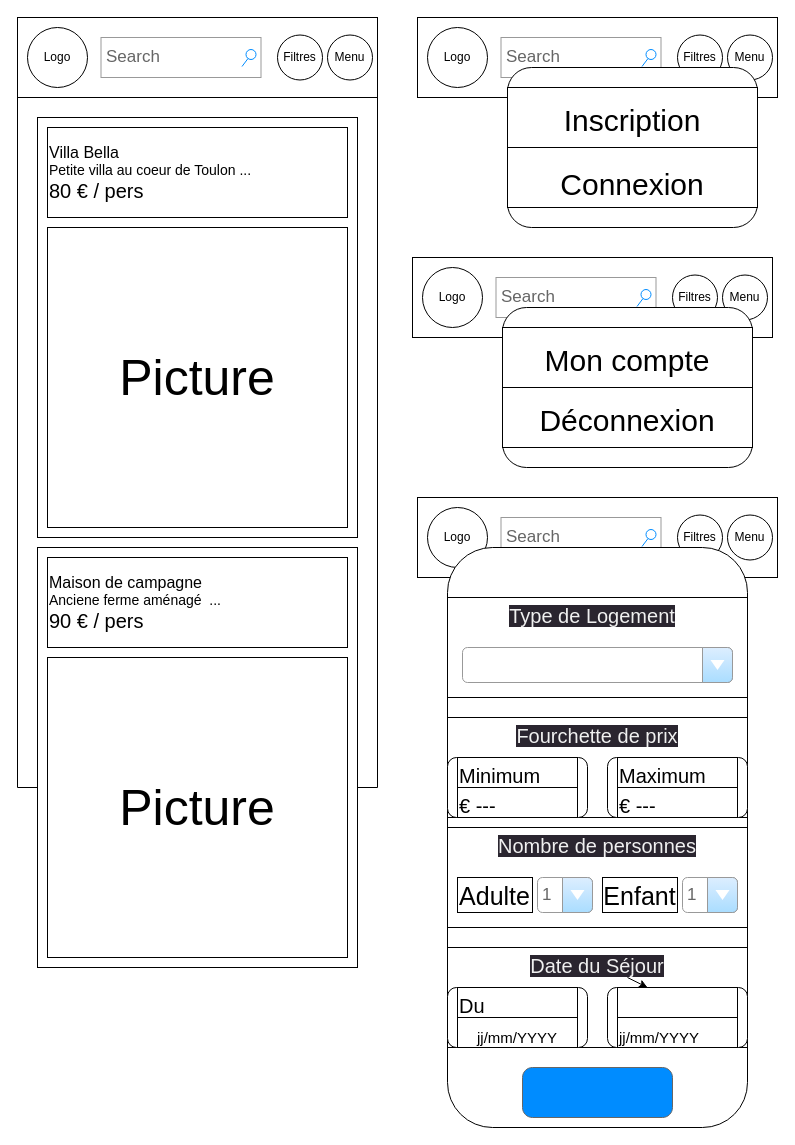
The diagram is 795 pixels wide and 1145 high, and some of its shapes have lost their labels. The centre of each missing label's shape, as x and y in pixels:
"Au" belongs at pixel 677 1002.
"Option 1" belongs at pixel 597 664.
"Valider" belongs at pixel 597 1092.
